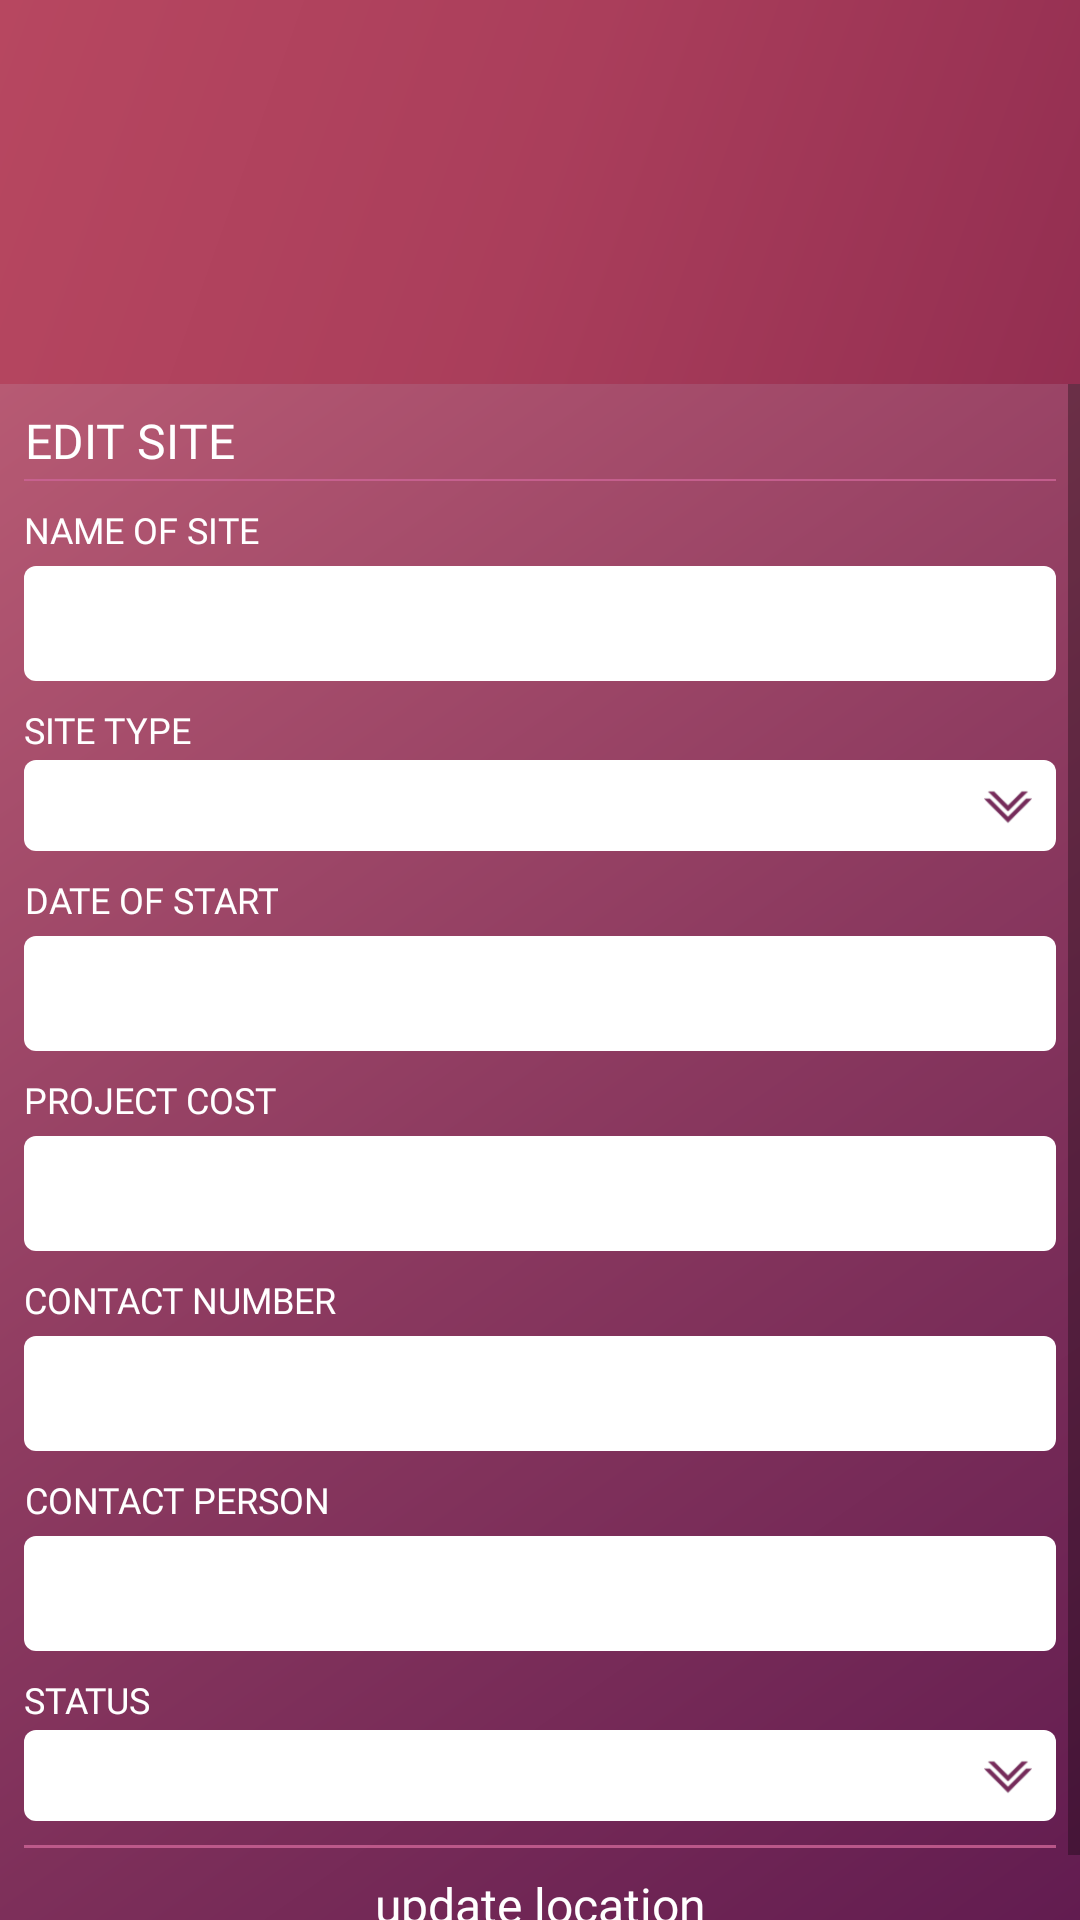

Screen size 1080*1920. Icon name, then its box in pixels as (x1, y1, x2, y2):
down arrow: (984, 791, 1032, 823), (984, 1761, 1032, 1793)
